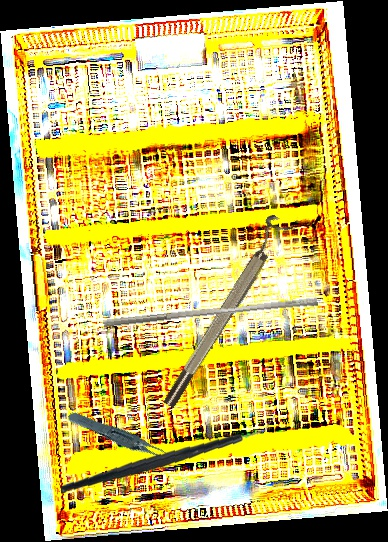Chopper: (61, 399, 275, 508)
Fixation Ring: (152, 212, 295, 411)
Pusher: (102, 290, 319, 336)
Tissue Forceps: (66, 392, 176, 487)
